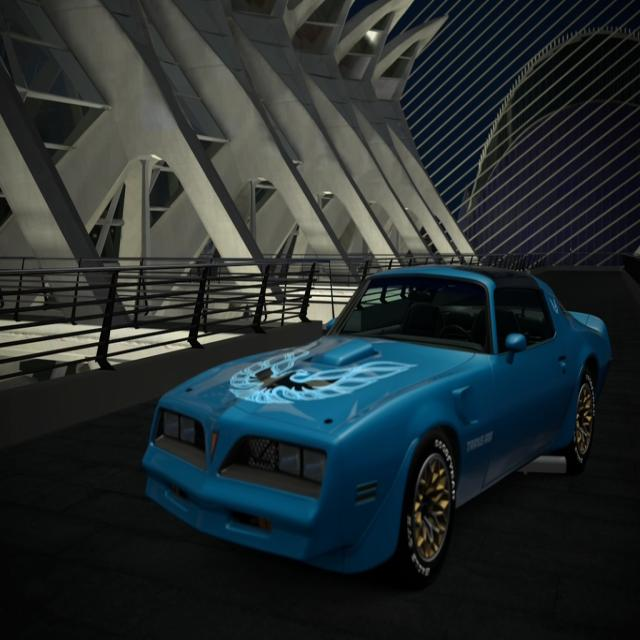car: (126, 256, 617, 589)
